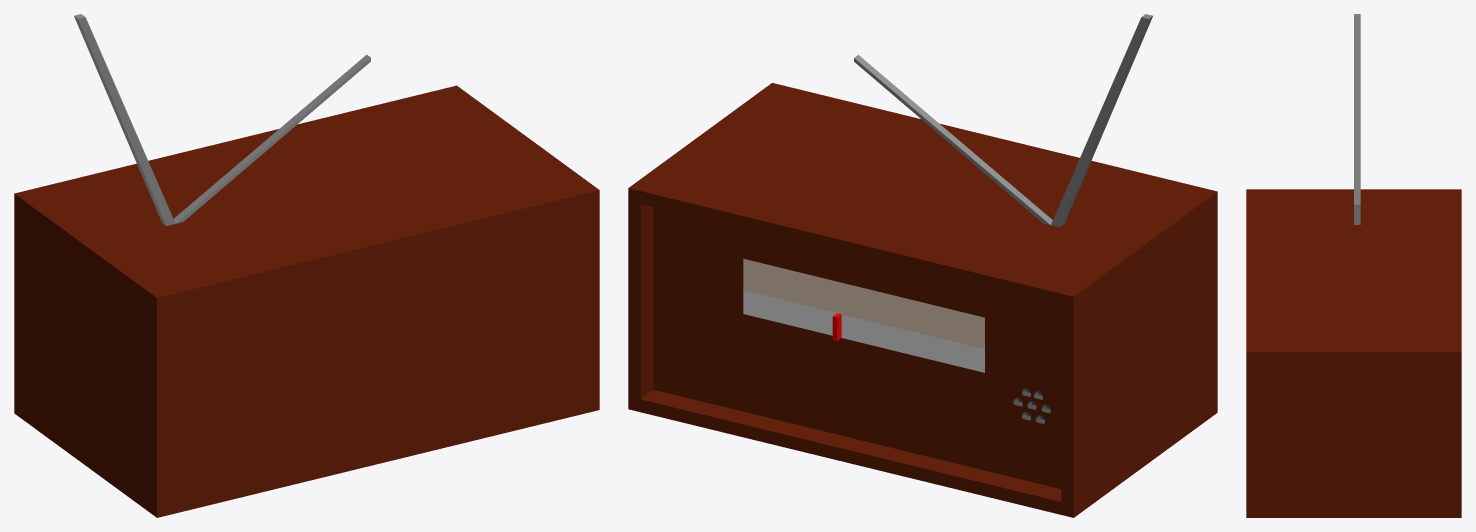
File: Radio.fbx
3 views of the same model, side by side, from view 1: azimuth 30°, elevation 25°; view 2: azimuth 150°, elevation 25°; view 3: azimuth 270°, elevation 25° (orthographic). The views are drawn at different scales.
Visible parts, largest first — view 1: Group1; view 2: Group1; view 3: Group1.
Boxes of the visible parts, x1,y1,x2,y2 form: Group1: [14, 14, 599, 517]; Group1: [628, 14, 1217, 517]; Group1: [1246, 14, 1461, 517].
Bounding box in the file's own units: 3.75 × 3.57 × 2.06.
